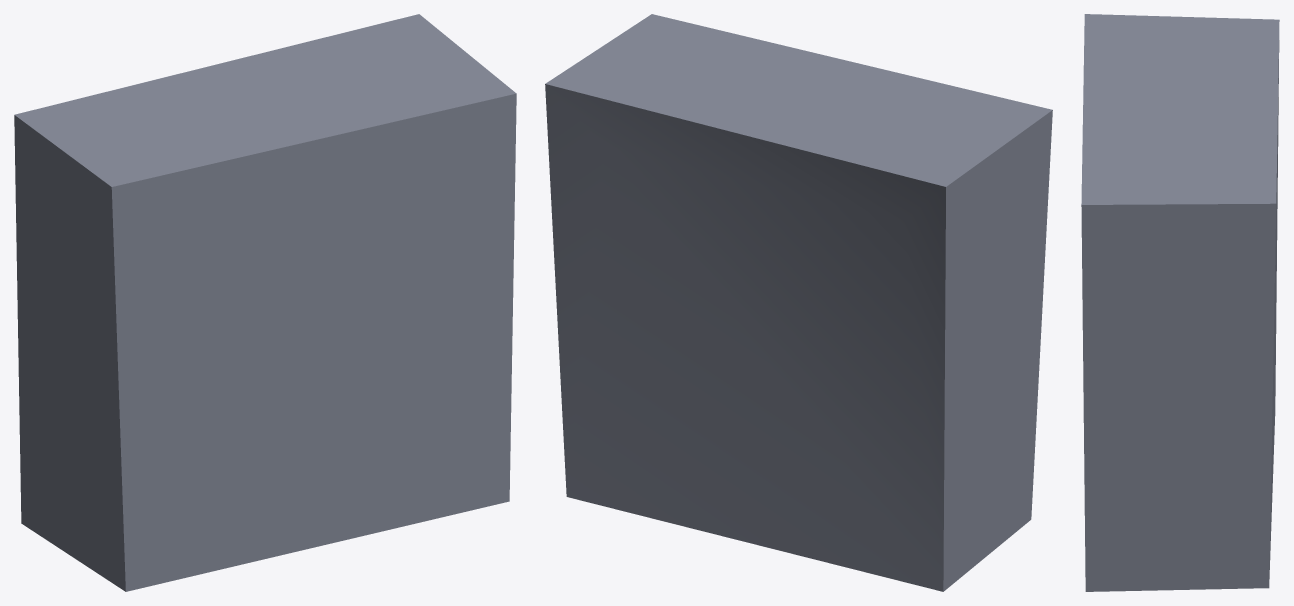
The model's file is wall_type03.fbx.
3 renders of one model, left to right at view 1: azimuth 30°, elevation 25°; view 2: azimuth 150°, elevation 25°; view 3: azimuth 270°, elevation 25°, orthographic. The views are drawn at different scales.
Visible parts, largest first — view 1: wall_type.001; view 2: wall_type.001; view 3: wall_type.001.
Part boxes in pixels (x1=…): wall_type.001: x1=14, y1=14, x2=516, y2=591; wall_type.001: x1=545, y1=14, x2=1052, y2=591; wall_type.001: x1=1081, y1=14, x2=1279, y2=591.
Size of the model in its own units: 39.08 by 37.7 by 17.23.
